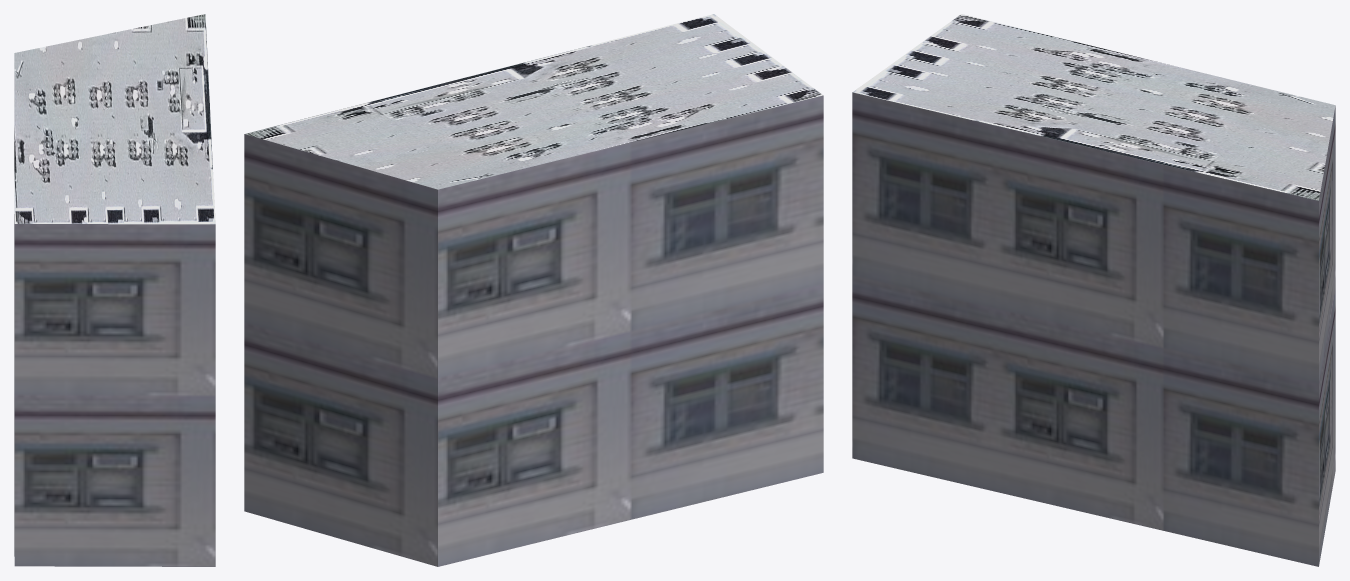
File: ResTex__3987.fbx
3 renders of one model, left to right at view 1: azimuth 30°, elevation 25°; view 2: azimuth 150°, elevation 25°; view 3: azimuth 270°, elevation 25°, orthographic. The views are drawn at different scales.
Visible parts, largest first — view 1: CityEngineMaterial_1_m, CityEngineMaterial_4_m; view 2: CityEngineMaterial_1_m, CityEngineMaterial_4_m; view 3: CityEngineMaterial_1_m, CityEngineMaterial_4_m.
Part boxes in pixels (x1=…): CityEngineMaterial_1_m: x1=14, y1=214, x2=215, y2=566; CityEngineMaterial_4_m: x1=14, y1=14, x2=215, y2=224; CityEngineMaterial_1_m: x1=244, y1=95, x2=823, y2=566; CityEngineMaterial_4_m: x1=245, y1=14, x2=822, y2=189; CityEngineMaterial_1_m: x1=852, y1=92, x2=1335, y2=566; CityEngineMaterial_4_m: x1=853, y1=14, x2=1335, y2=200.
Size of the model in its own units: 6.57 by 6 by 7.18.
Materials: 2 (2 with a texture image).
